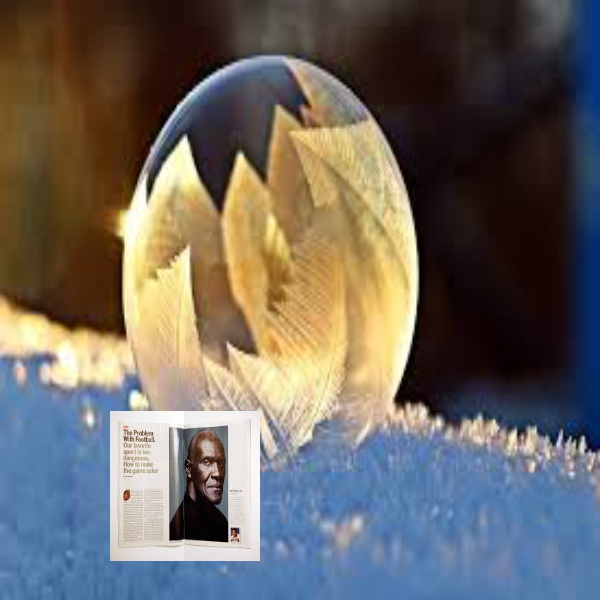time_cover: (169, 416, 242, 555)
